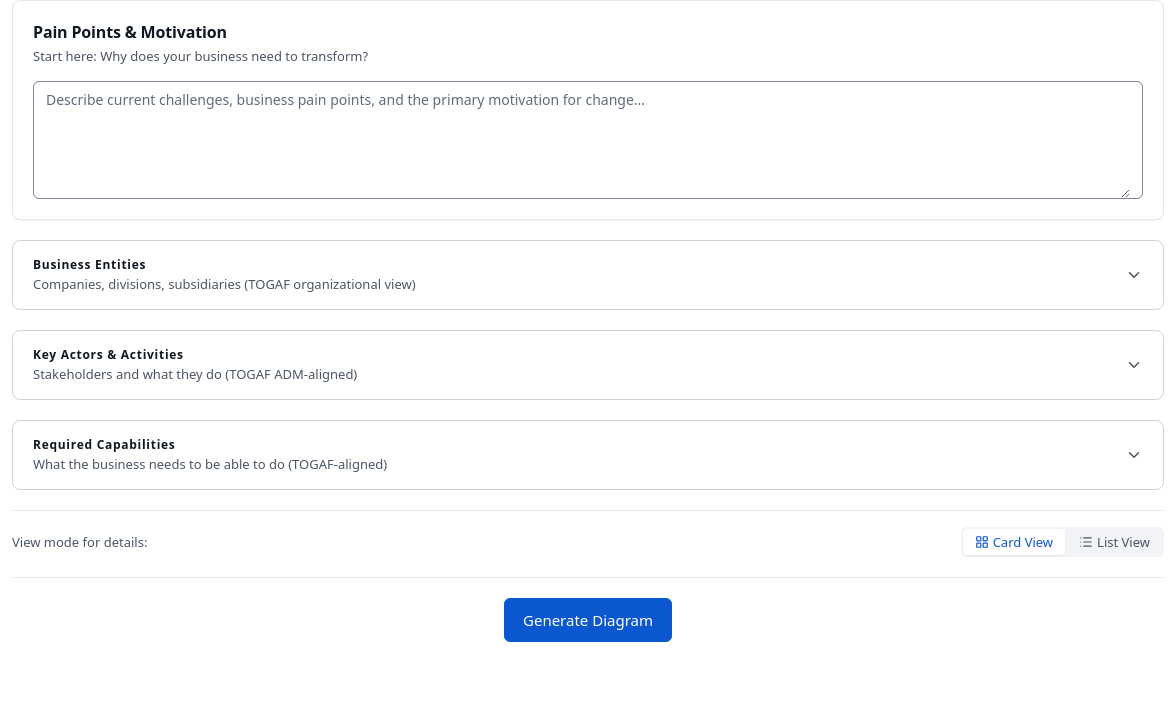
Test case: ARIA Labels - Icon-Only Buttons › BusinessContextTab › has aria-label on entity card remove button
The image size is (1176, 711).
Click the button "Business Entities": [90, 264] box [13, 241, 1163, 309]
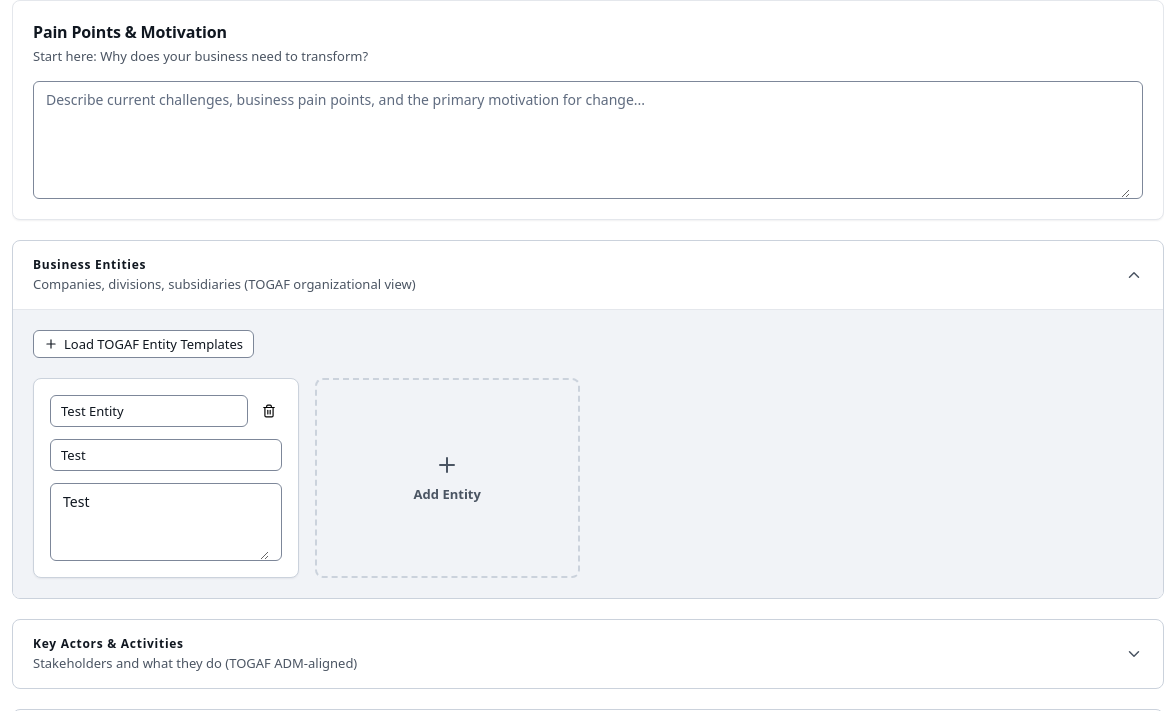
Now the button named "remove entity test entity" is shown, box [256, 397, 282, 425]
